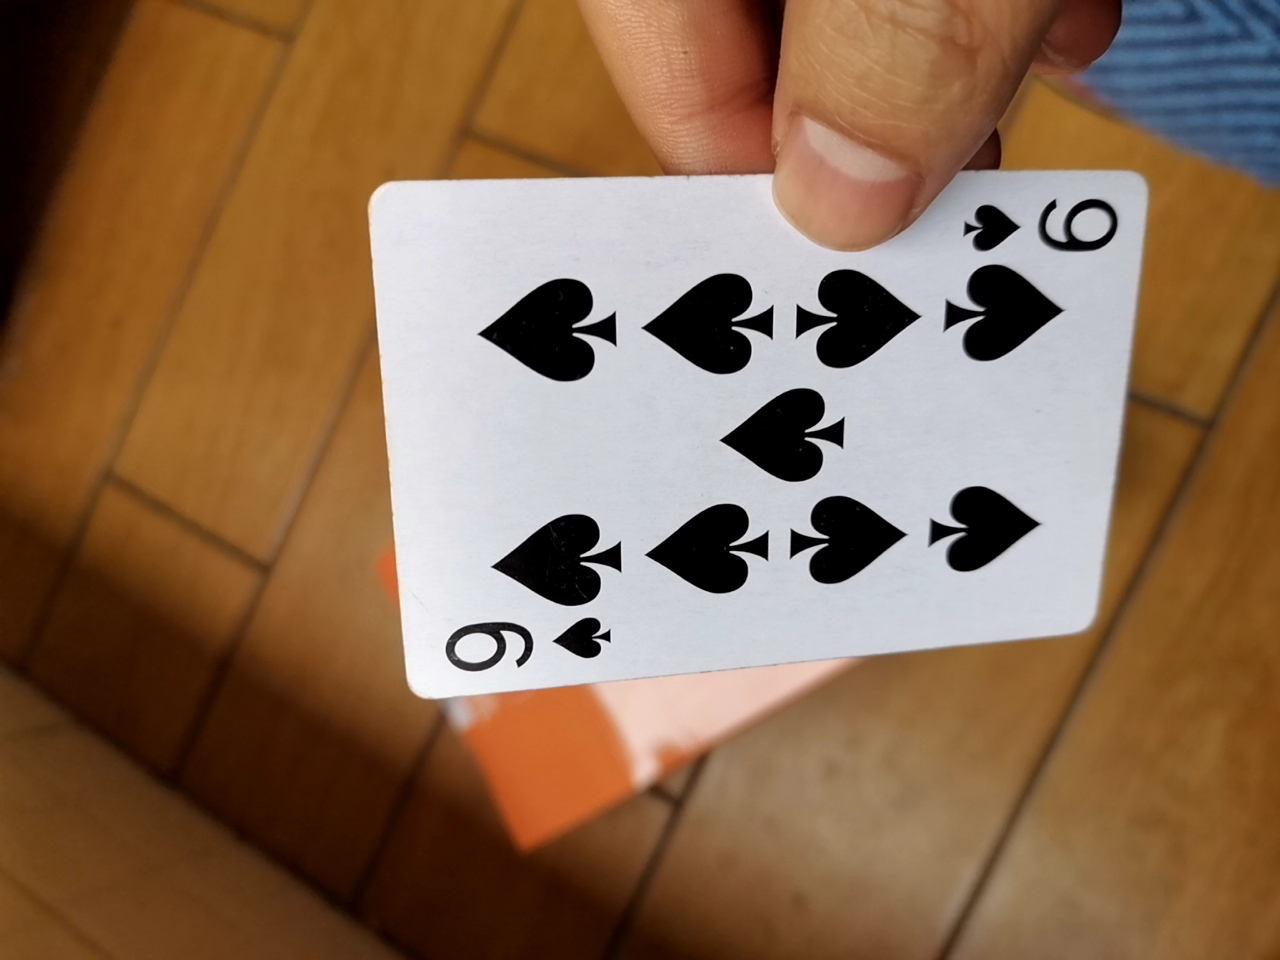ht 9: (353, 158, 1118, 719)
